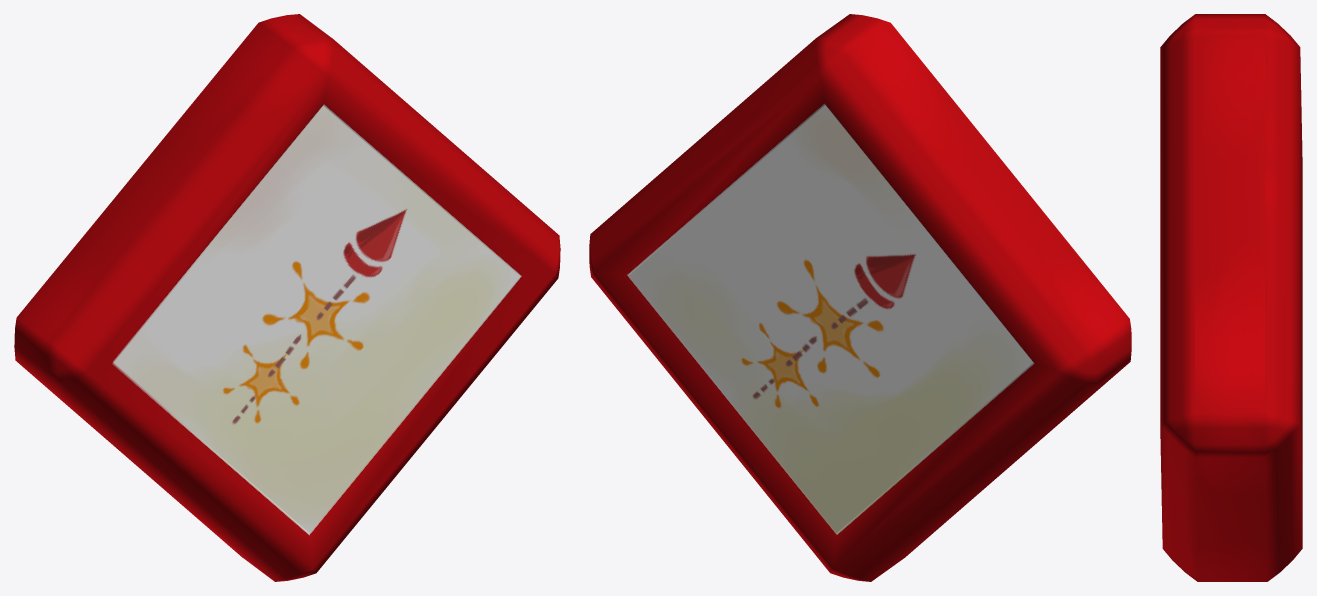
File: item_1.fbx
The picture shows the model from 3 angles, left to right: view 1: azimuth 30°, elevation 25°; view 2: azimuth 150°, elevation 25°; view 3: azimuth 270°, elevation 25°; orthographic projection. The views are drawn at different scales.
Visible parts, largest first — view 1: pCube1; view 2: pCube1; view 3: pCube1.
Boxes of the visible parts, left/top/right/bottom form: pCube1: left=14, top=14, right=560, bottom=581; pCube1: left=589, top=14, right=1131, bottom=581; pCube1: left=1160, top=14, right=1302, bottom=581.
Size of the model in its own units: 77.41 by 77.41 by 17.94.
